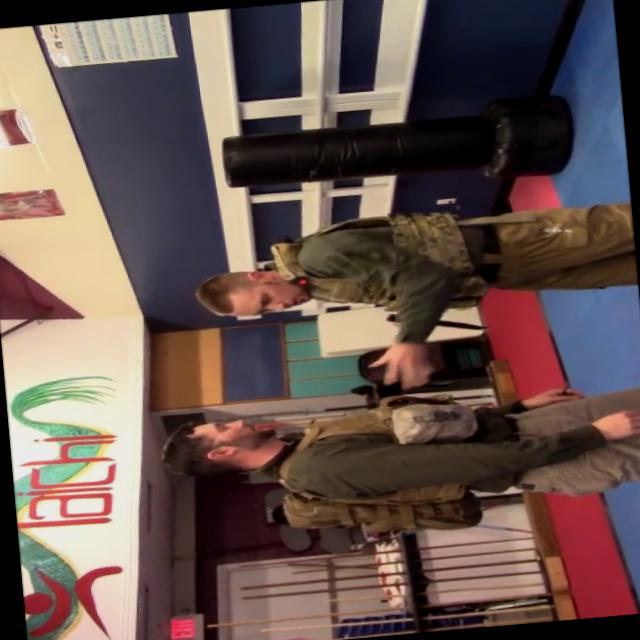knife: (378, 299, 494, 343)
